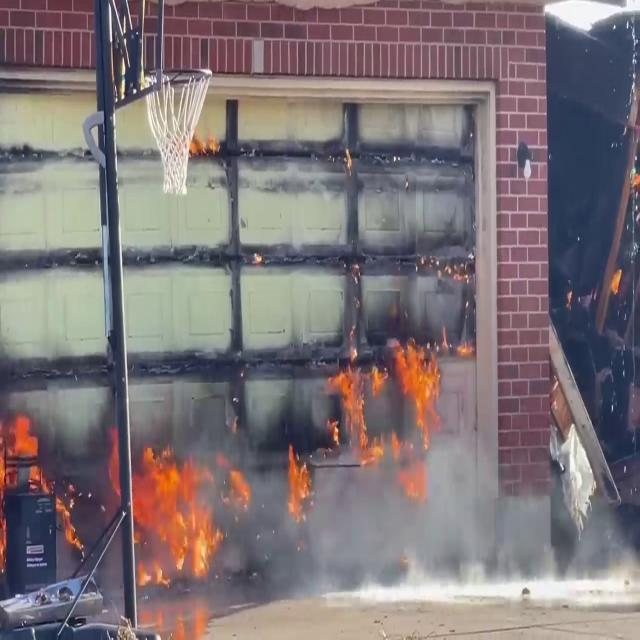Fire: (330, 325, 446, 467), (128, 438, 232, 592), (0, 396, 38, 580), (285, 438, 312, 522)
